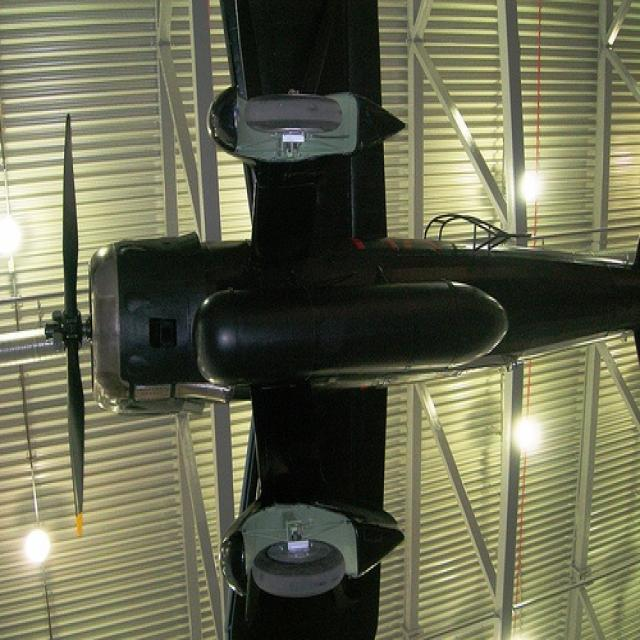aeroplane: (45, 0, 639, 637)
